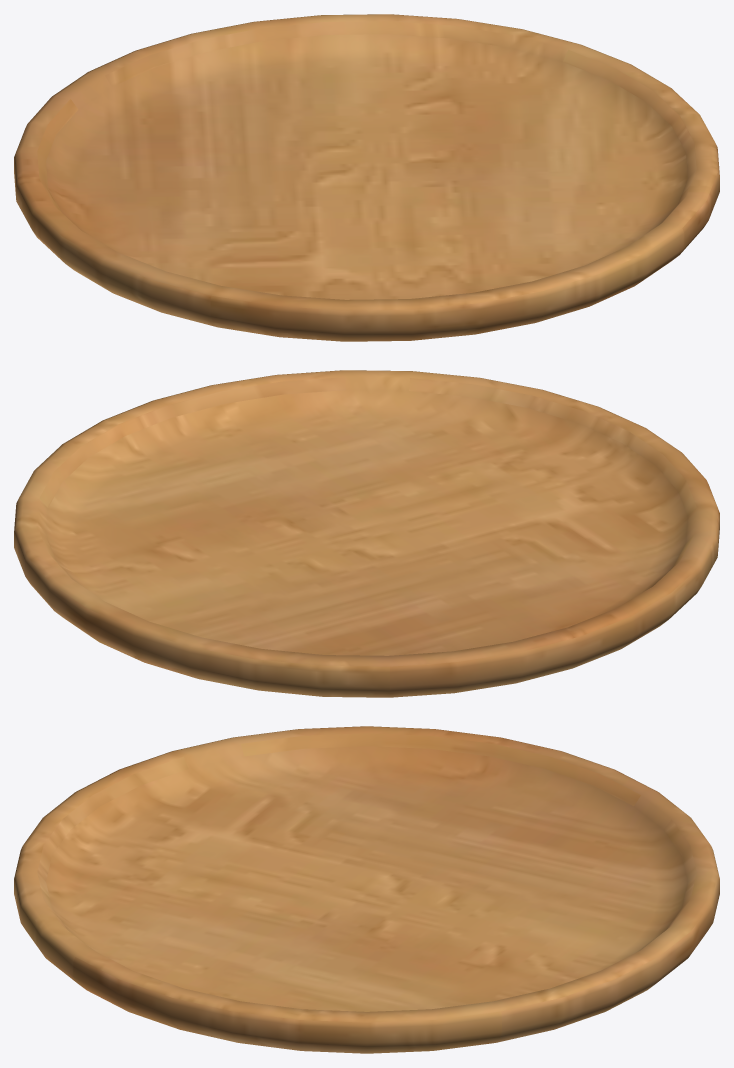
The model's file is obj_wooden_plate.glb.
3 renders of one model, top to bottom at view 1: azimuth 30°, elevation 25°; view 2: azimuth 150°, elevation 25°; view 3: azimuth 270°, elevation 25°, orthographic.
Visible parts, largest first — view 1: Object_2; view 2: Object_2; view 3: Object_2.
Part boxes in pixels (<box>): Object_2: <box>14,14,719,341</box>; Object_2: <box>14,370,719,697</box>; Object_2: <box>14,726,719,1053</box>.
Bounding box in the file's own units: 0.26 × 0.0174 × 0.26.
Materials: 1 (1 with a texture image).
